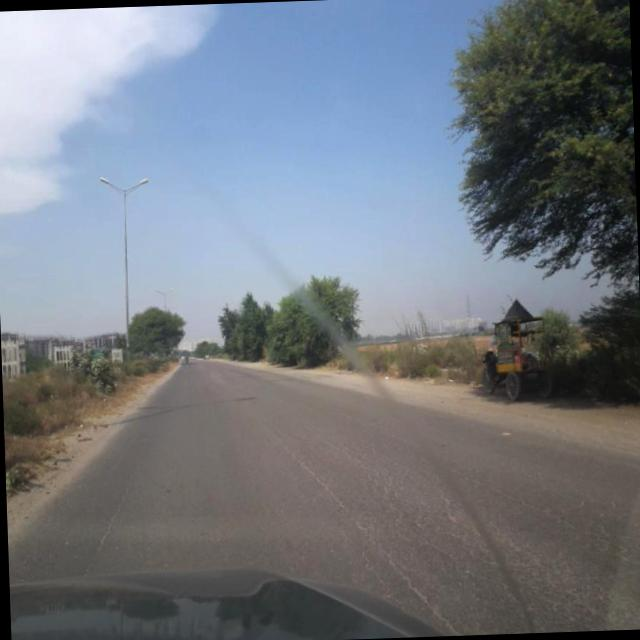crack: (401, 458, 640, 633)
pothole: (266, 408, 460, 640), (84, 441, 148, 569)
